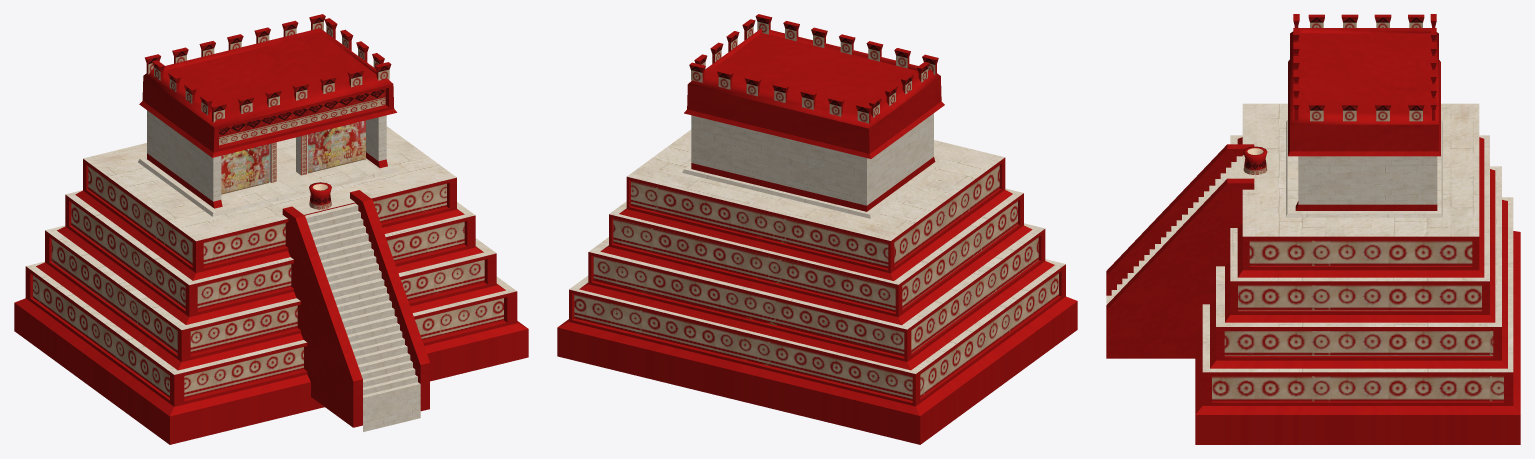
Rendered from temple_1.dae.
3 views of the same model, side by side, from view 1: azimuth 30°, elevation 25°; view 2: azimuth 150°, elevation 25°; view 3: azimuth 270°, elevation 25° (orthographic). The views are drawn at different scales.
Parts seen in each view (by area): view 1: TEMPLE1; view 2: TEMPLE1; view 3: TEMPLE1.
Boxes of the visible parts, x1=… form: TEMPLE1: x1=14, y1=14, x2=528, y2=444; TEMPLE1: x1=557, y1=14, x2=1077, y2=444; TEMPLE1: x1=1106, y1=14, x2=1520, y2=444.
Size of the model in its own units: 35.86 by 34.27 by 26.83.
